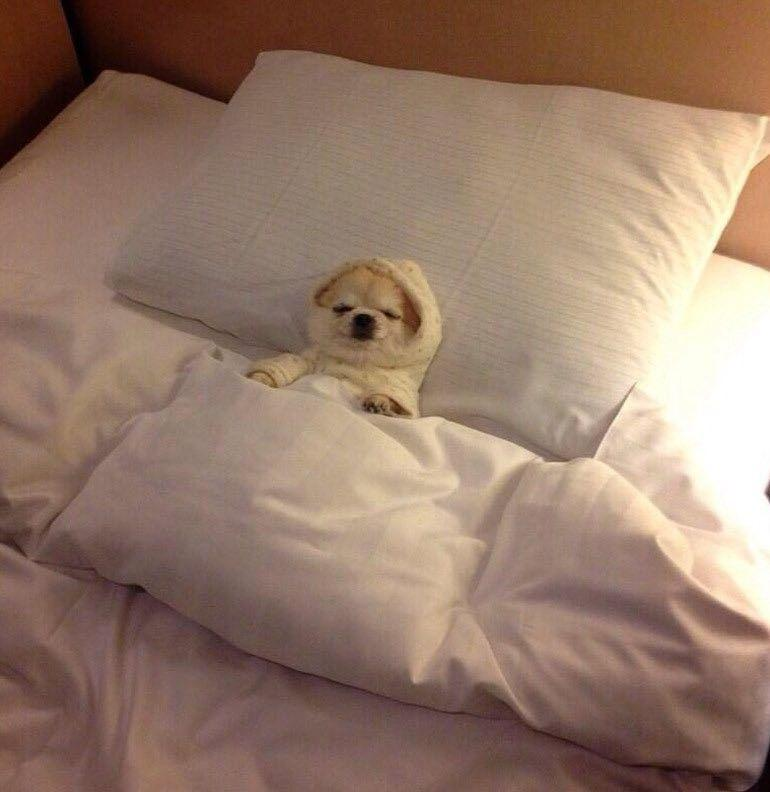puppy-dog: (244, 254, 443, 419)
